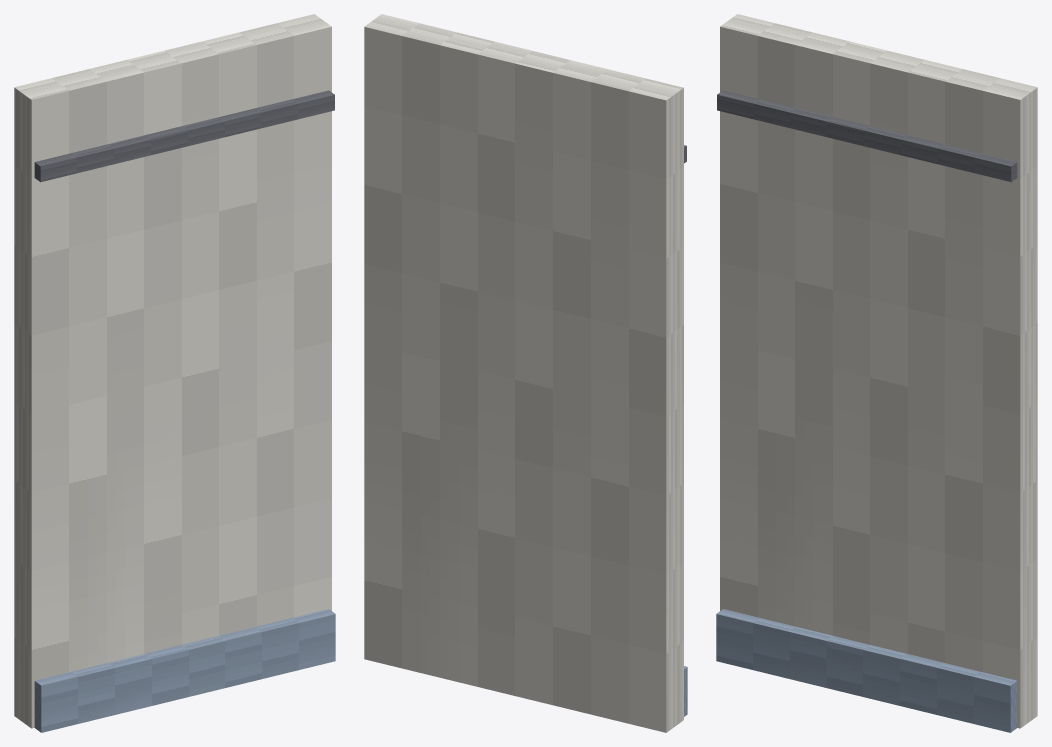
Rendered from wall-bay-plain.glb.
The picture shows the model from 3 angles, left to right: view 1: azimuth 30°, elevation 25°; view 2: azimuth 150°, elevation 25°; view 3: azimuth 330°, elevation 25°; orthographic projection.
Visible parts, largest first — view 1: wall-bay-plain; view 2: wall-bay-plain; view 3: wall-bay-plain.
Part boxes in pixels (x1,y1,x2,y2): wall-bay-plain: [14, 14, 335, 732]; wall-bay-plain: [364, 14, 687, 732]; wall-bay-plain: [716, 14, 1037, 732].
Bounding box in the file's own units: 2 × 4 × 0.2801.
3 materials, 3 textured.
